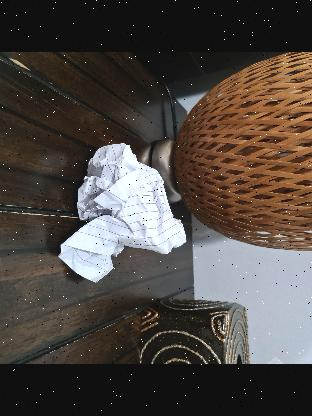Others: (57, 140, 191, 280)
